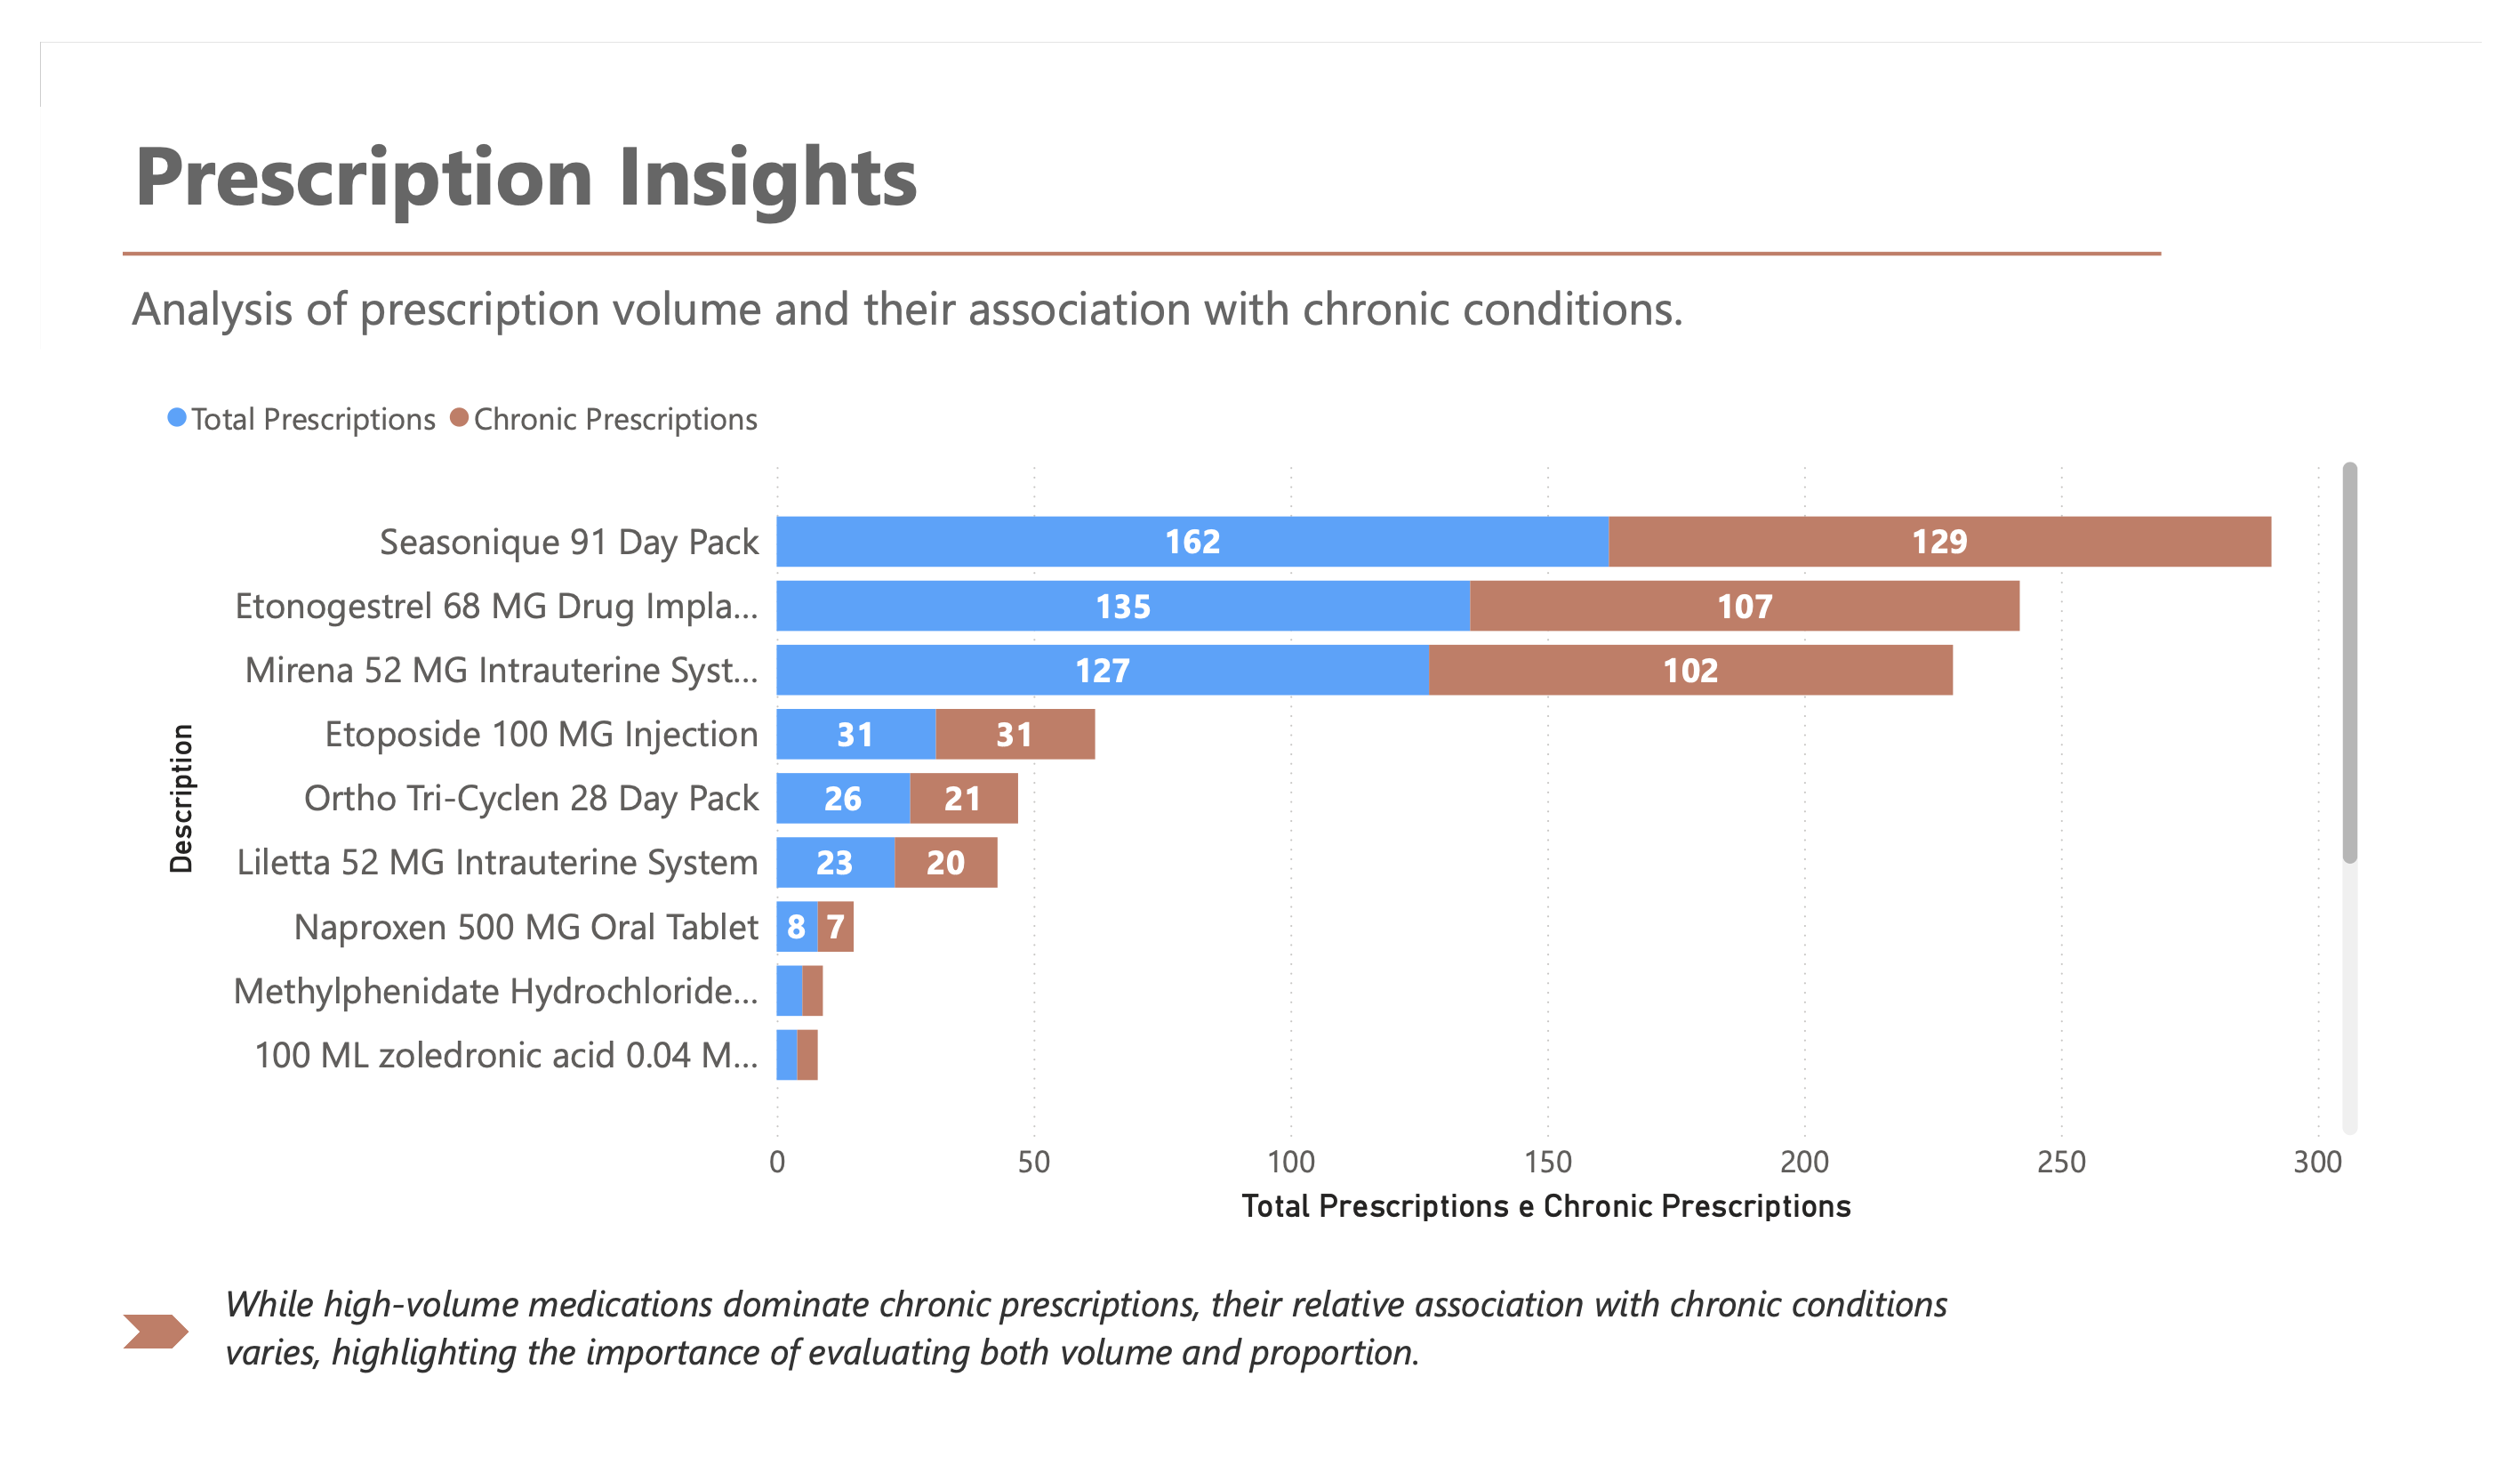

This screenshot's page, from the dashboard's own definition file:
{"tool":"powerbi","page":{"name":"Prescriptions Insight","canvas":[1280,720],"ordinal":4},"visuals":[{"type":"barChart","fields":{"Category":["medication_analysis.DESCRIPTION"],"Y":["Sum(medication_analysis.total_prescriptions)","Sum(medication_analysis.chronic_prescriptions)"]},"box":[60,175,1160,448.3],"z":0},{"type":"textbox","box":[91.7,643.3,920,65],"z":1000},{"type":"textbox","box":[44.1,33.9,508.5,72.9],"z":2000},{"type":"textbox","box":[43.3,116.7,943.3,58.3],"z":3000},{"type":"shape","box":[43.3,95,1068.3,31.7],"z":4000},{"type":"shape","box":[43.3,666.7,35,18.3],"z":5000}]}

Visuals, with their boxes in screenshot pixels (x1, y1, x2, y2), scaled from the page's 1280x720 canvas onto the 2520x1457 screenshot:
barChart - medication_analysis.DESCRIPTION x Sum(medication_analysis.total_prescriptions): [118,354,2402,1261]
textbox: [181,1302,1992,1433]
textbox: [87,68,1087,216]
textbox: [85,236,1942,354]
shape: [85,192,2188,256]
shape: [85,1349,154,1386]
